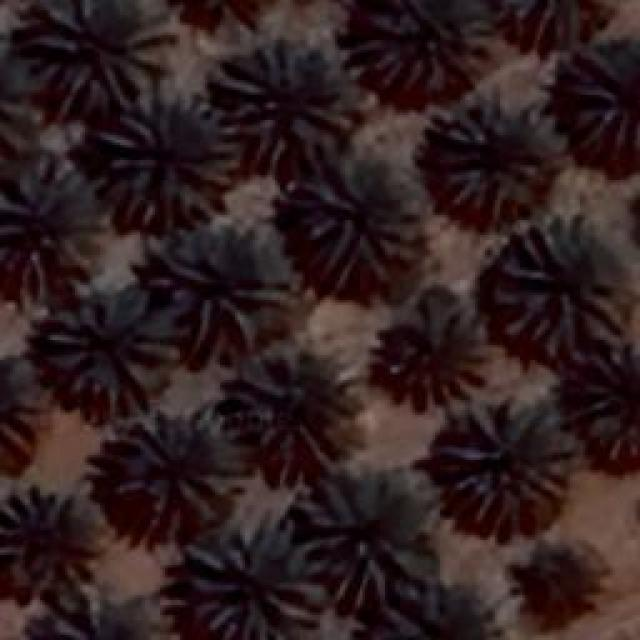PalmTree: (17, 21, 554, 122), (95, 90, 240, 228), (175, 512, 320, 638), (295, 150, 423, 290), (220, 340, 362, 465), (215, 38, 360, 160), (495, 217, 623, 355), (42, 282, 180, 410), (432, 398, 572, 520), (95, 408, 240, 520), (430, 90, 560, 212), (20, 0, 170, 105), (345, 0, 500, 92), (362, 300, 490, 410), (169, 235, 289, 343), (4, 158, 94, 294), (316, 481, 426, 579), (0, 493, 92, 586), (562, 42, 636, 148), (578, 345, 638, 460), (512, 546, 596, 626), (372, 590, 482, 638), (46, 605, 159, 640), (0, 371, 32, 471), (160, 0, 284, 24)
